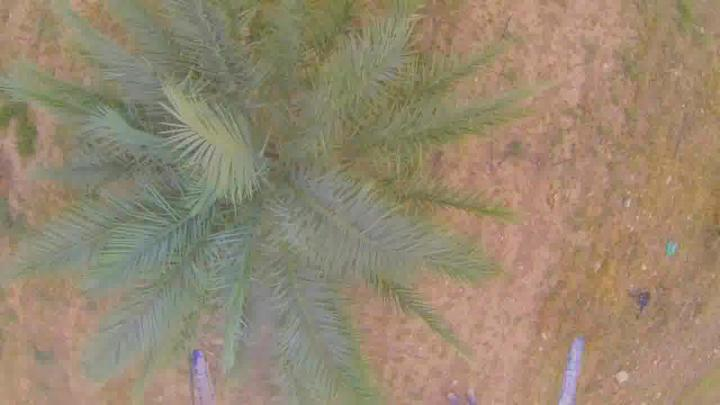Date-Palm-Crown: (121, 14, 414, 326)
